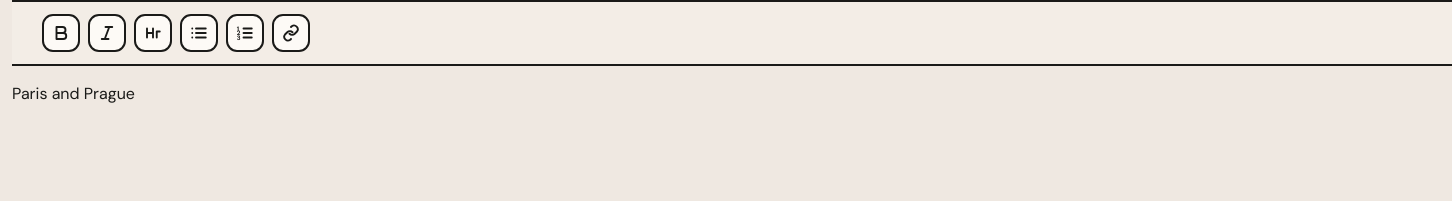
Test: EditorToolbar › linking › opens the link bar rather than a browser prompt
The width and height of the screenshot is (1452, 201).
Click the button named "Add link": point(291, 33) [272,14,310,52]
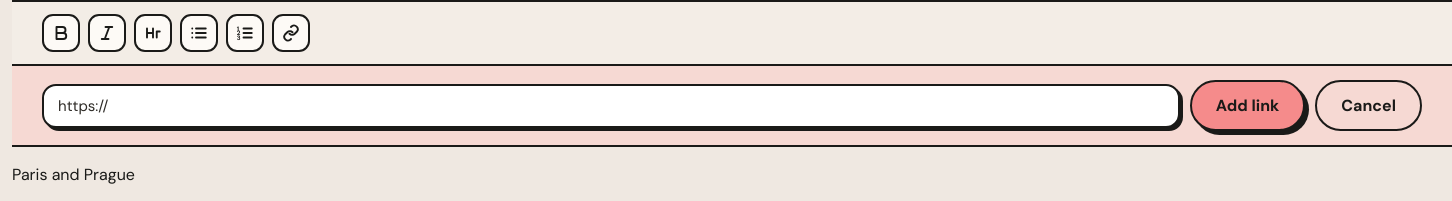
Now the field named "Link address" is shown, box [42,84,1180,128]
